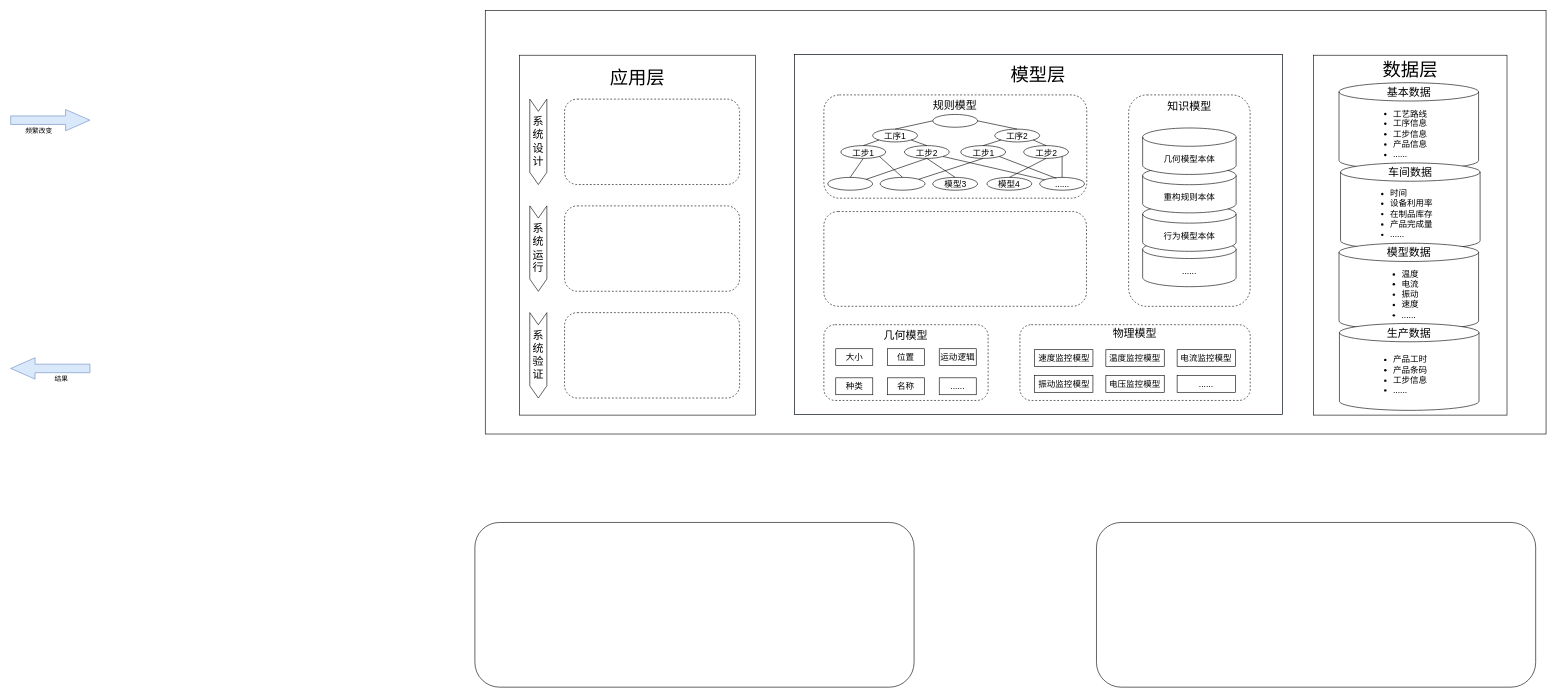
Image size: 1557x698. Some labels were removed from this diagram. The centre of each missing label's shape, as x and y in pixels:
"任务" belongs at (955,120).
"模型1" belongs at (850,183).
"模型2" belongs at (902,183).
"行为模型" belongs at (954,258).
